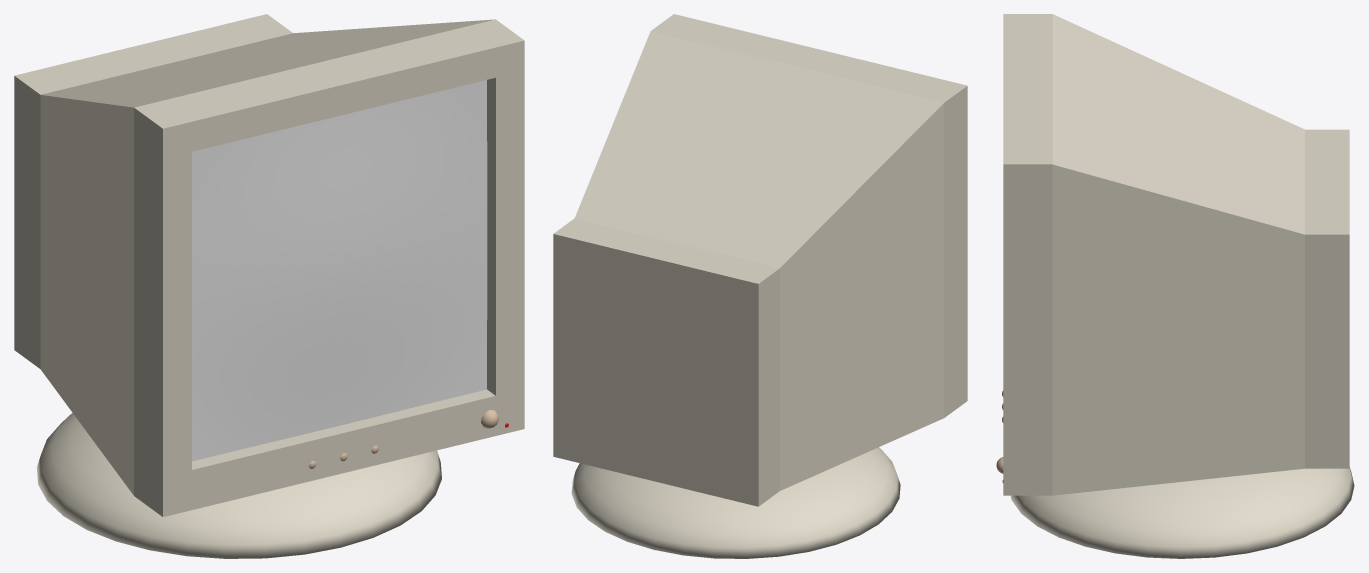
Rendered from Monitor.fbx.
3 views of the same model, side by side, from view 1: azimuth 30°, elevation 25°; view 2: azimuth 150°, elevation 25°; view 3: azimuth 270°, elevation 25° (orthographic). The views are drawn at different scales.
Parts seen in each view (by area): view 1: Monitor, Screen, Sphere; view 2: Monitor, Sphere; view 3: Monitor, Sphere.
Part boxes in pixels (x1,y1,x2,y2): Monitor: (14,14,524,516); Screen: (192,80,487,461); Sphere: (36,413,441,558); Monitor: (553,14,967,506); Sphere: (571,447,900,558); Monitor: (1003,14,1349,495); Sphere: (1010,467,1354,558).
Size of the model in its own units: 794 by 976 by 799.
